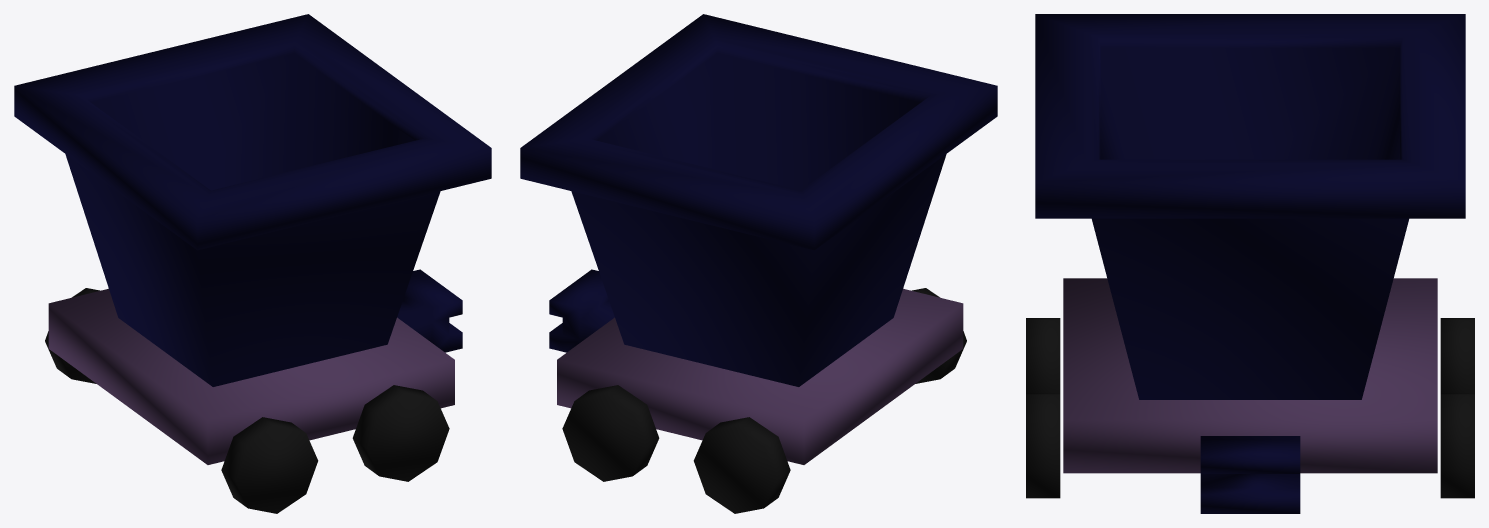
File: Cart.fbx
The picture shows the model from 3 angles, left to right: view 1: azimuth 30°, elevation 25°; view 2: azimuth 150°, elevation 25°; view 3: azimuth 270°, elevation 25°; orthographic projection. The views are drawn at different scales.
Visible parts, largest first — view 1: Cube.035; view 2: Cube.035; view 3: Cube.035.
Boxes of the visible parts, x1,y1,x2,y2 form: Cube.035: [14, 14, 491, 513]; Cube.035: [520, 14, 997, 513]; Cube.035: [1026, 14, 1474, 513].
Size of the model in its own units: 171 by 151 by 169.
